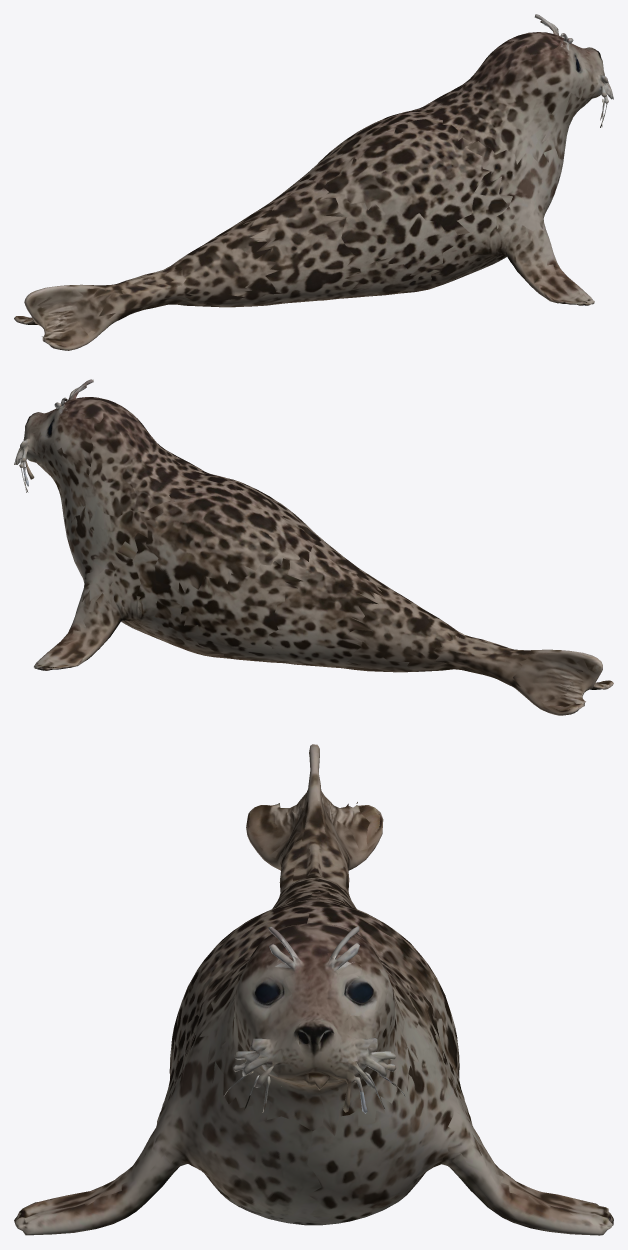
Rendered from foca.obj.
3 renders of one model, top to bottom at view 1: azimuth 30°, elevation 25°; view 2: azimuth 150°, elevation 25°; view 3: azimuth 270°, elevation 25°, orthographic. The views are drawn at different scales.
Parts seen in each view (by area): view 1: tripo_node_ffc22d92-7458-4bcb-8783-779c558759e5; view 2: tripo_node_ffc22d92-7458-4bcb-8783-779c558759e5; view 3: tripo_node_ffc22d92-7458-4bcb-8783-779c558759e5.
Part boxes in pixels (x1=…): tripo_node_ffc22d92-7458-4bcb-8783-779c558759e5: x1=14, y1=14, x2=613, y2=350; tripo_node_ffc22d92-7458-4bcb-8783-779c558759e5: x1=14, y1=379, x2=613, y2=715; tripo_node_ffc22d92-7458-4bcb-8783-779c558759e5: x1=14, y1=744, x2=613, y2=1235.
Bounding box in the file's own units: 1 × 0.3445 × 0.5425.
1 material, 1 textured.
